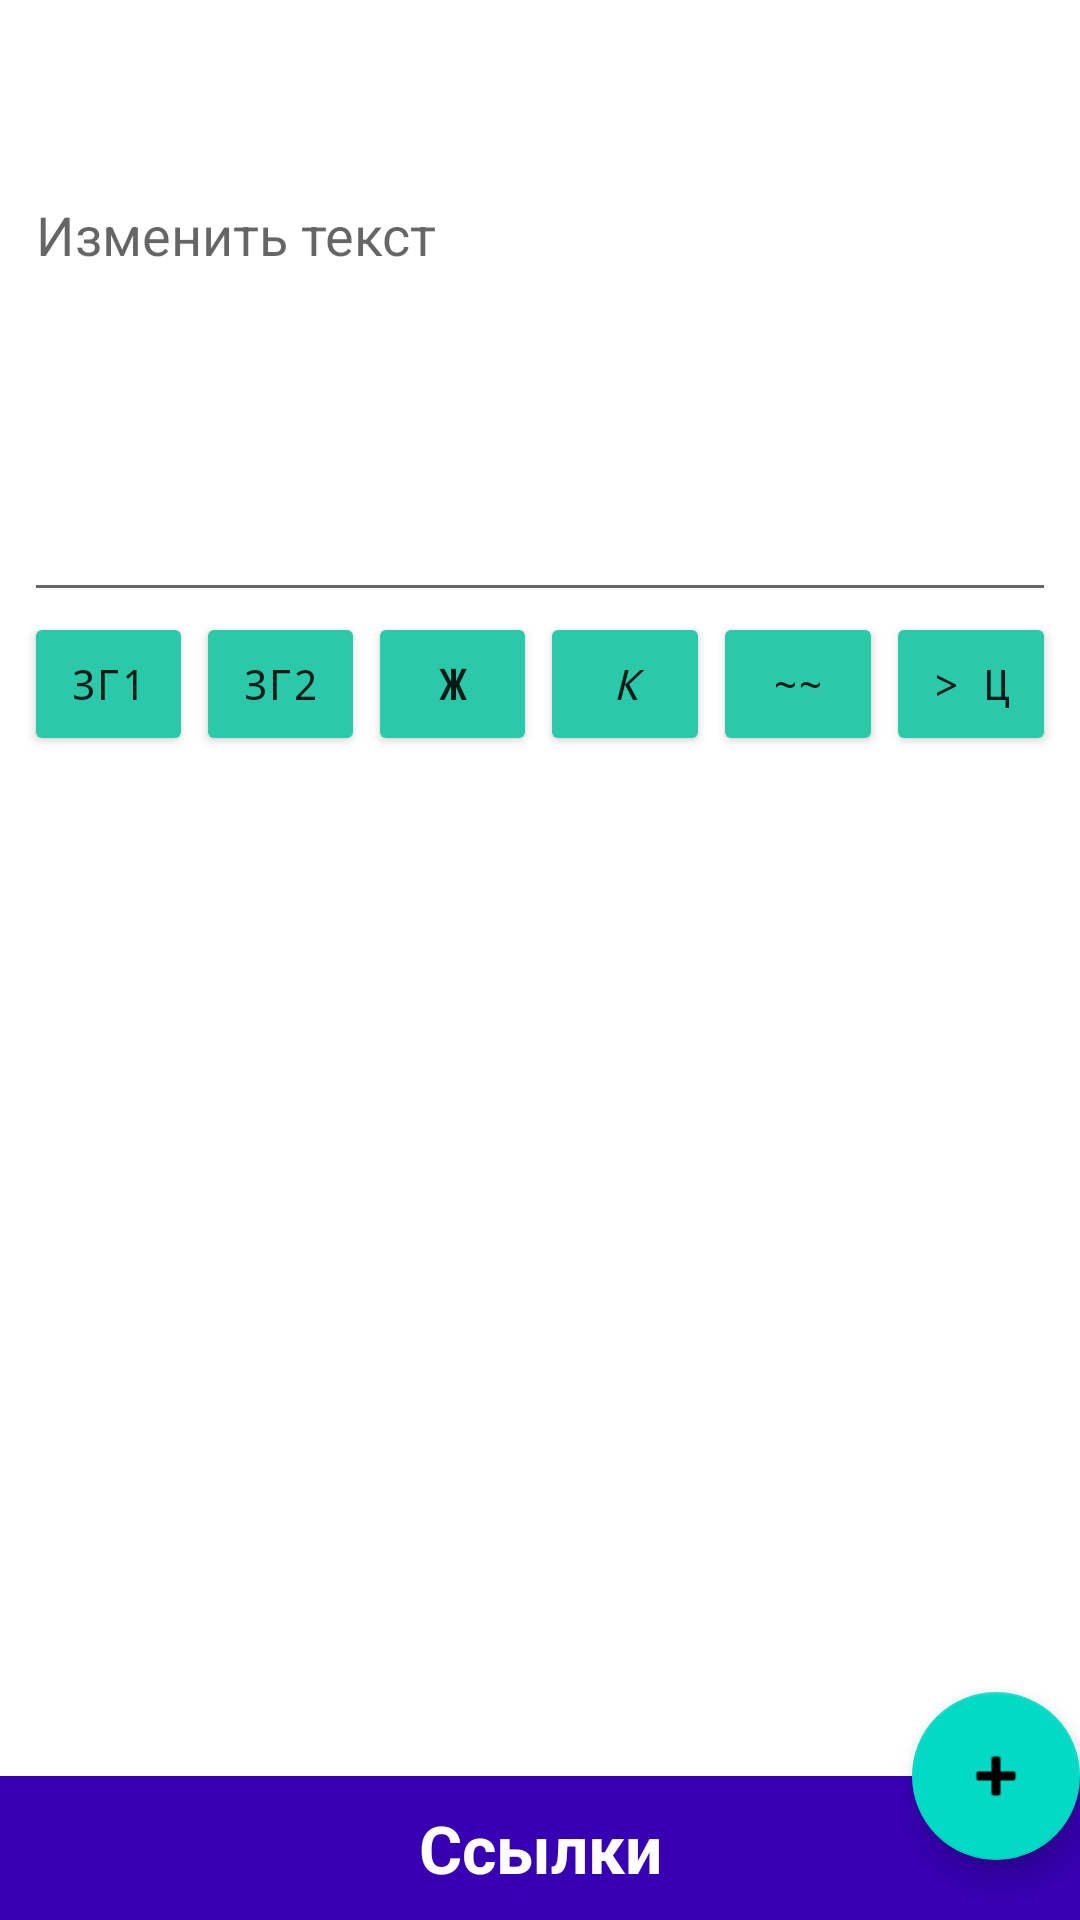

Screen size 1080px x 1920px. Icon name, then its center in pixels as (x=x, y=y):
add: (x=996, y=1776)
